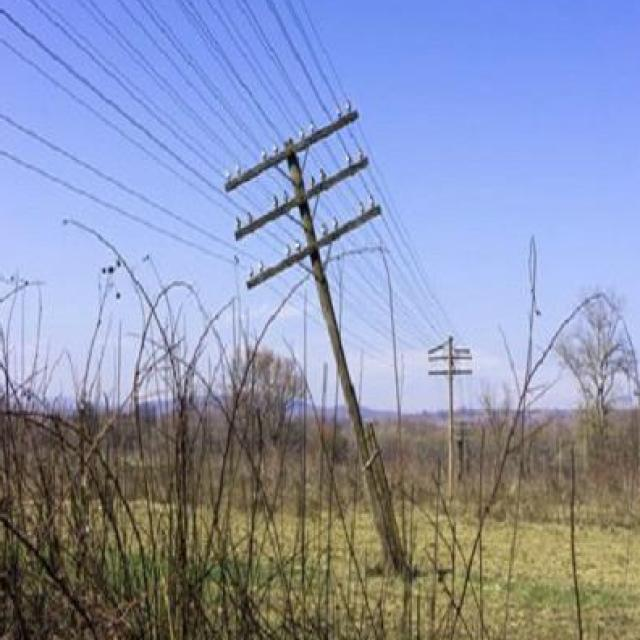non-critical vegetation: (228, 91, 408, 574), (422, 332, 477, 494)
